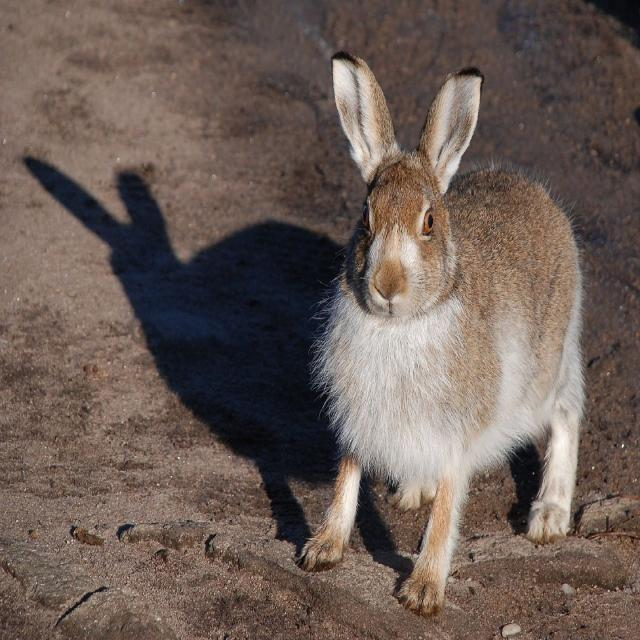Hare: (300, 48, 599, 586)
